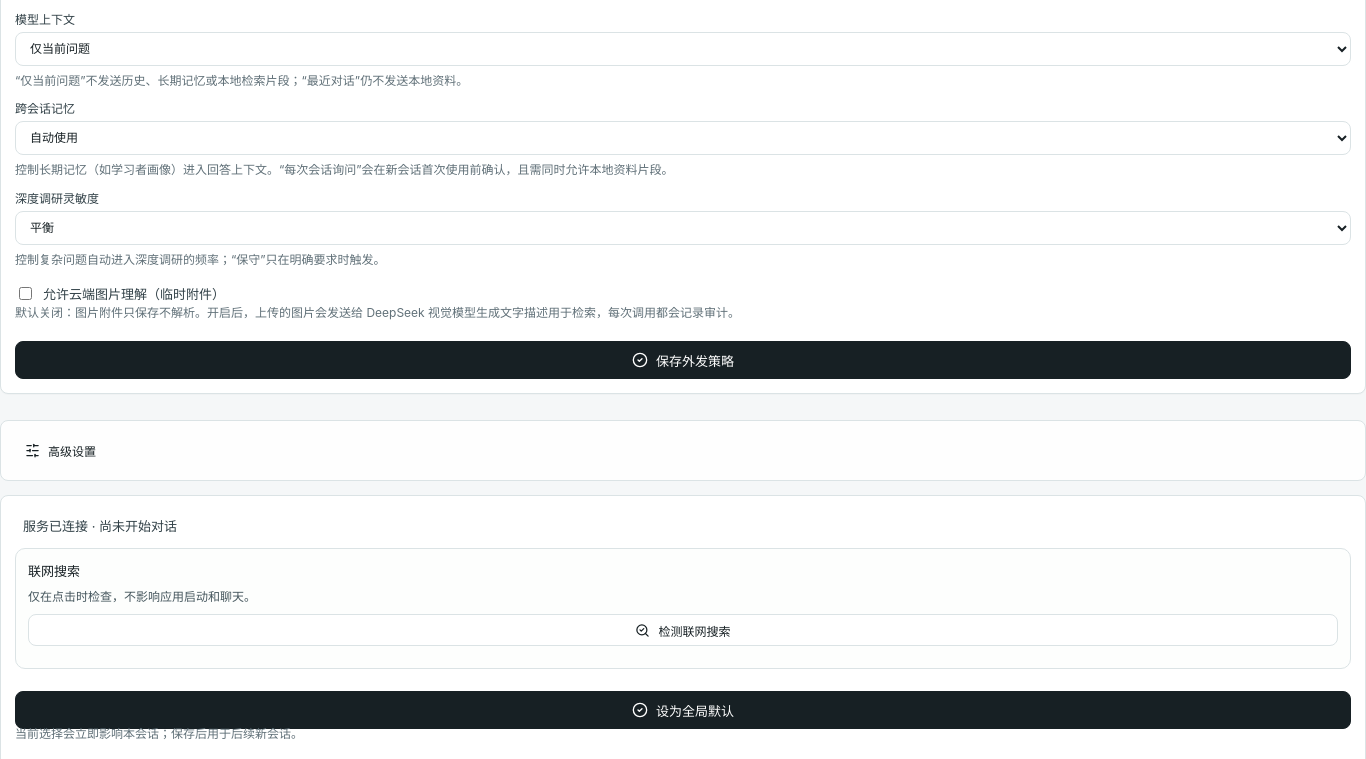
Test: SettingsPanel provider health › distinguishes an online service with unhealthy engines from a full outage
The image size is (1366, 759).
(page scrolled)
Click the button "检测联网搜索" at (683, 630), box x1=28 y1=614 x2=1338 y2=646
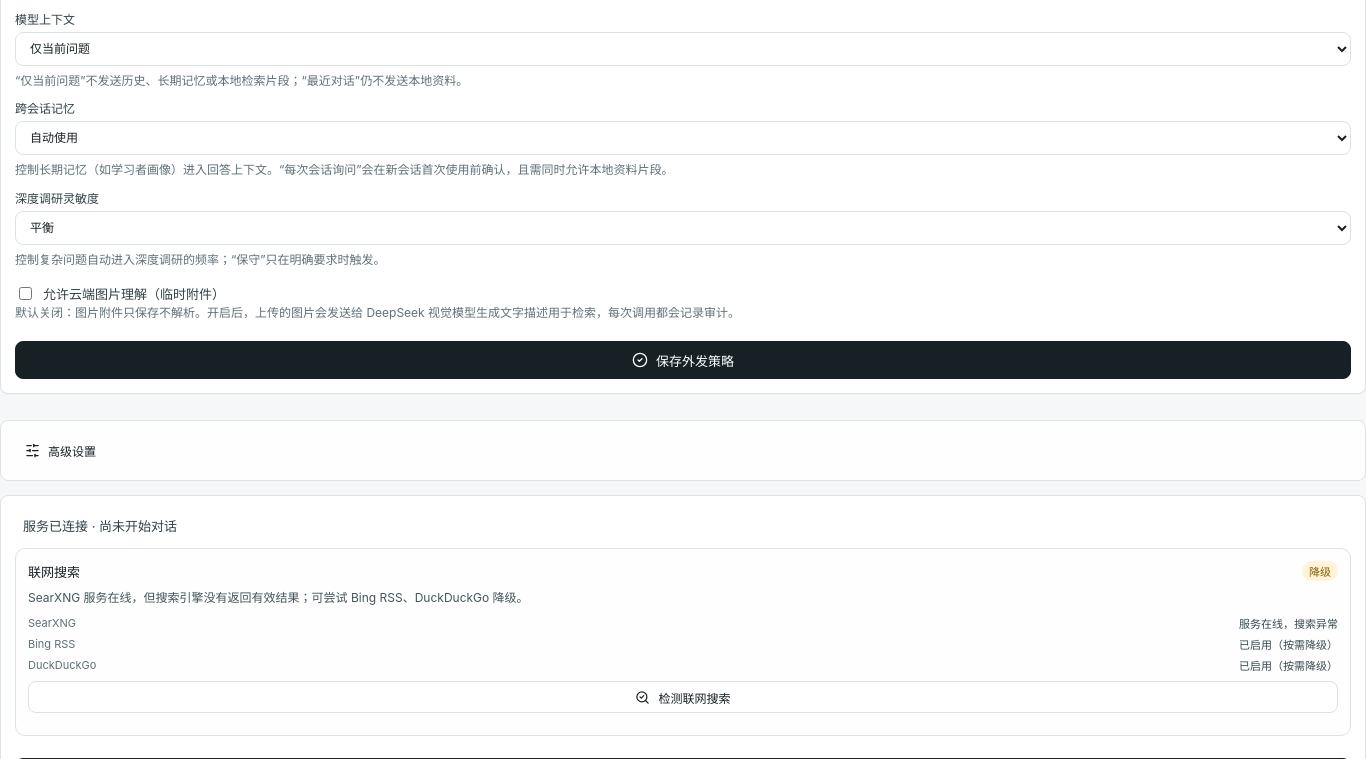
Result: the text "SearXNG 服务在线，但搜索引擎没有返回有效结果；可尝试 Bing RSS、DuckDuckGo 降级。" is shown at x1=28 y1=590 x2=529 y2=606
Click the button "检测联网搜索" at (683, 698), box x1=28 y1=682 x2=1338 y2=714
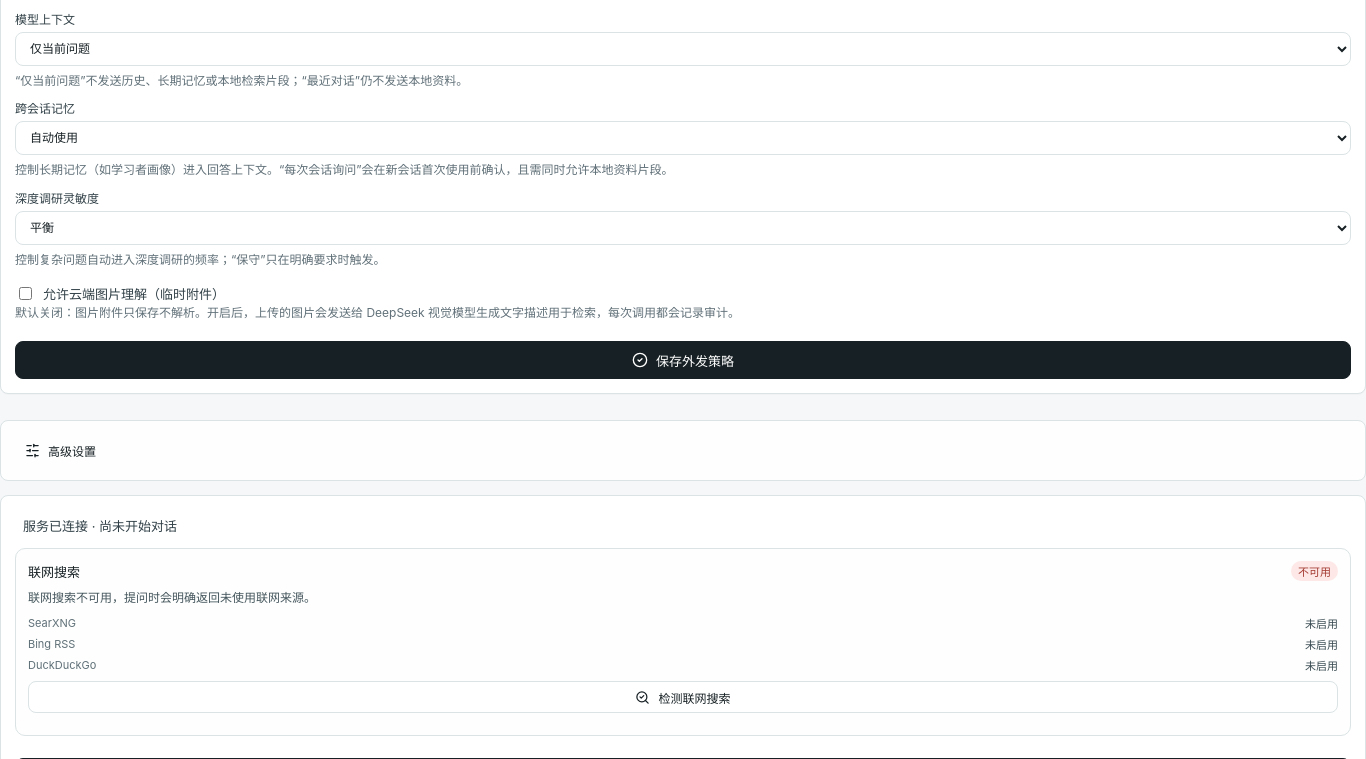
Result: the text "联网搜索不可用，提问时会明确返回未使用联网来源。" is shown at x1=28 y1=590 x2=316 y2=606
